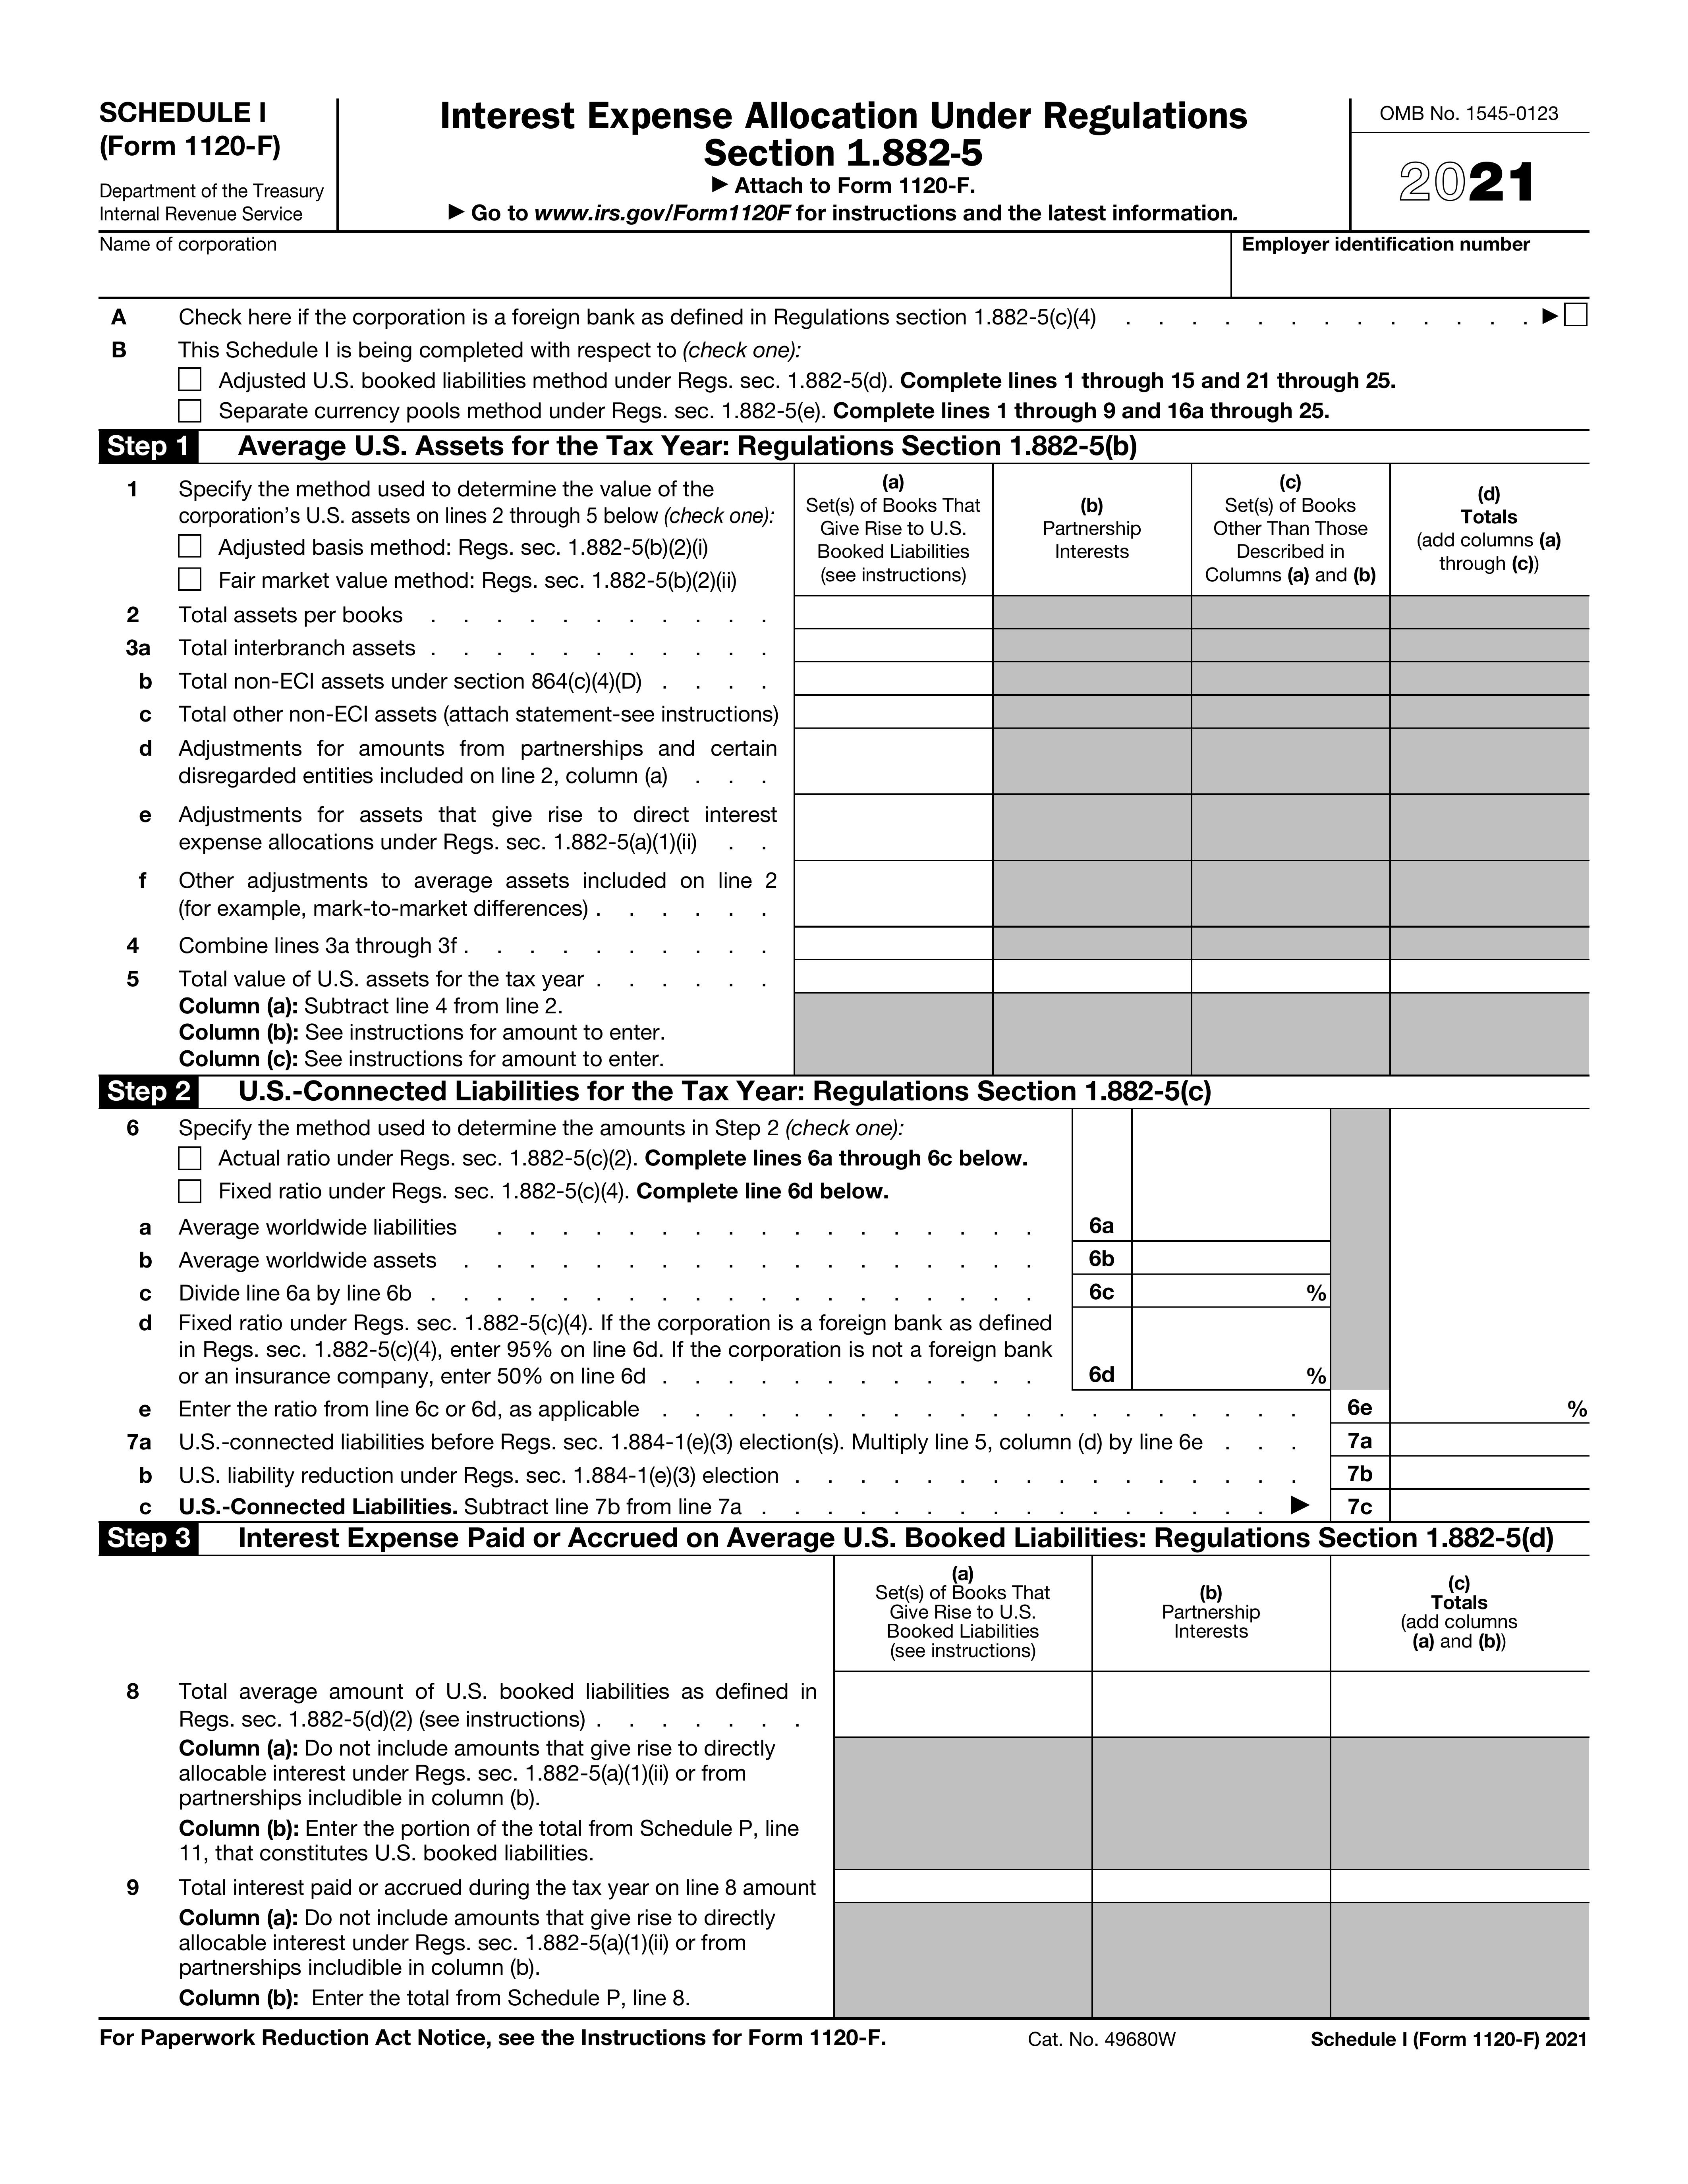form: (66, 76, 1622, 303)
table: (89, 470, 1599, 1078), (98, 1560, 1599, 2014), (103, 1110, 1599, 1519)
